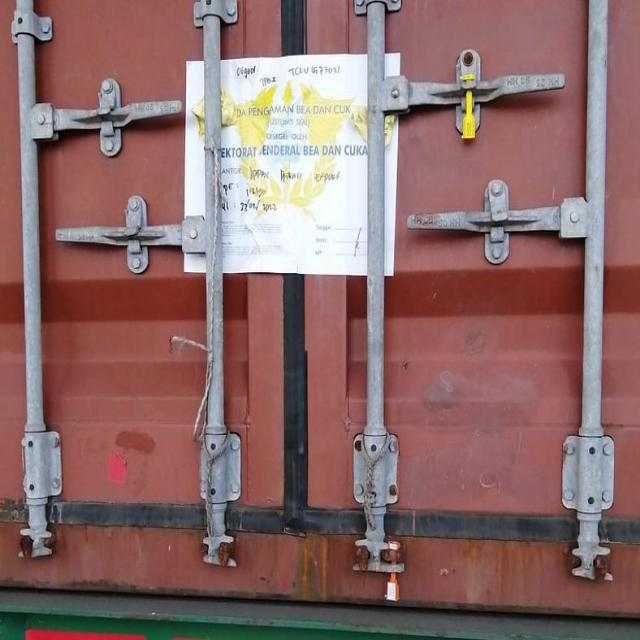seal: (452, 60, 486, 152), (386, 538, 407, 602)
